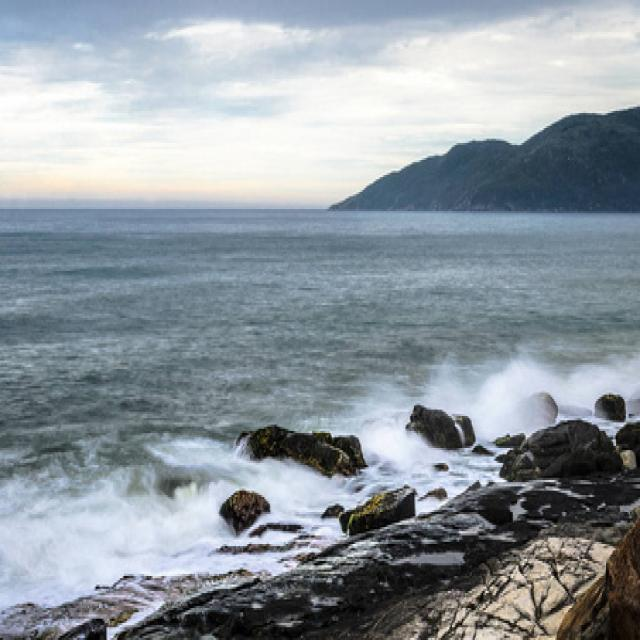island: (325, 82, 640, 219)
